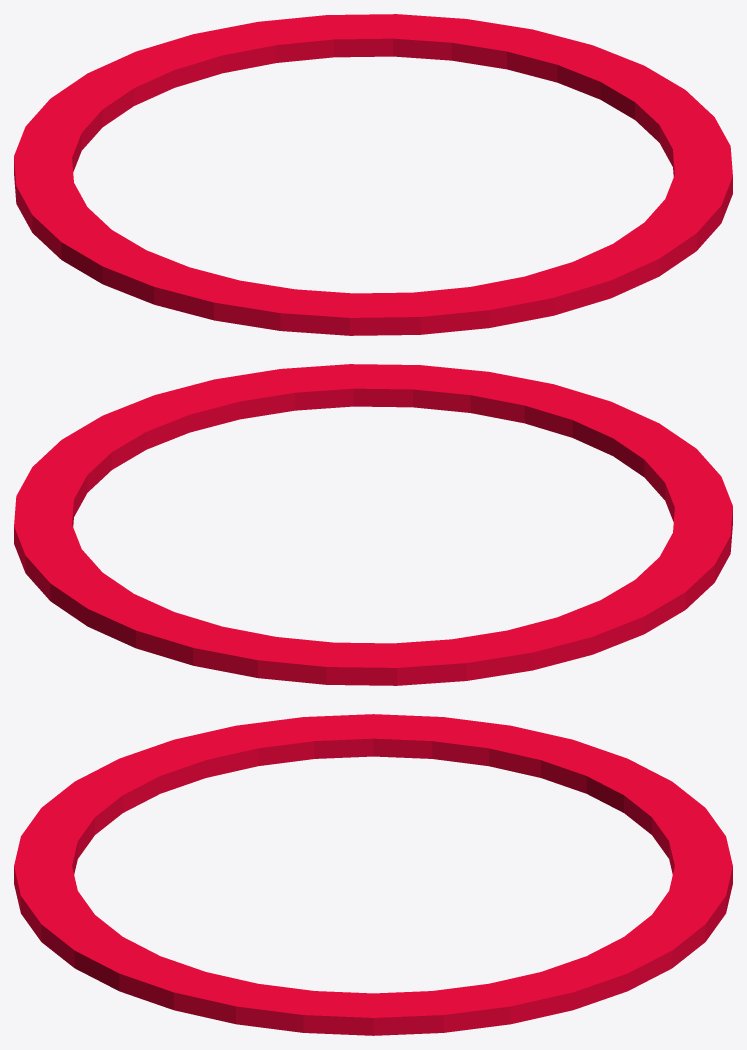
Rendered from CircleRing.fbx.
3 views of the same model, one above another, from view 1: azimuth 30°, elevation 25°; view 2: azimuth 150°, elevation 25°; view 3: azimuth 270°, elevation 25° (orthographic).
Parts seen in each view (by area): view 1: Circle; view 2: Circle; view 3: Circle.
Boxes of the visible parts, box(x1,y1,x2,y2) form: Circle: box(14, 14, 732, 335); Circle: box(14, 364, 732, 685); Circle: box(14, 714, 732, 1035).
Bounding box in the file's own units: 239 × 6.54 × 239.
